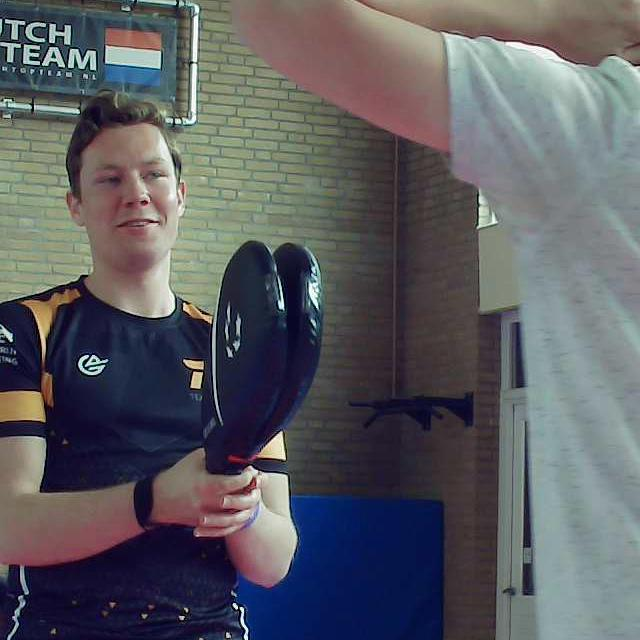paddle: (203, 241, 321, 471)
